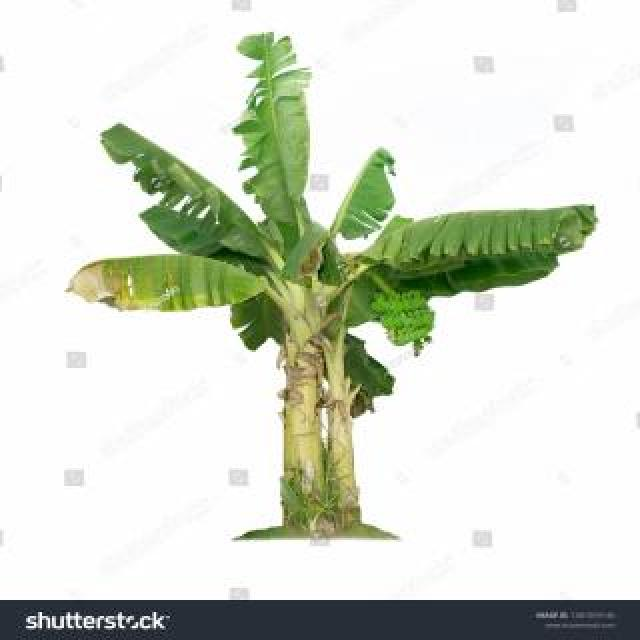Pisang: (89, 28, 597, 552)
